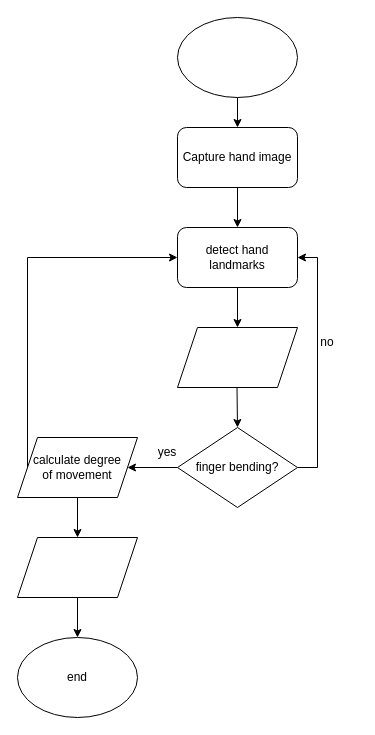
Image size: 375x735. Some labels were removed from this diagram. The centre of each missing label's shape, as x and y in pixels:
calculate relative postion of hand landmarks: the point at 237,357
send signals to motors: the point at 77,567
start: the point at 237,57
